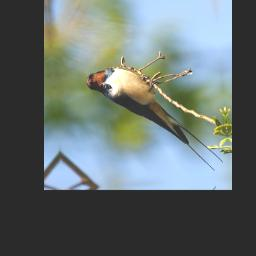Swallow: (85, 61, 225, 180)
